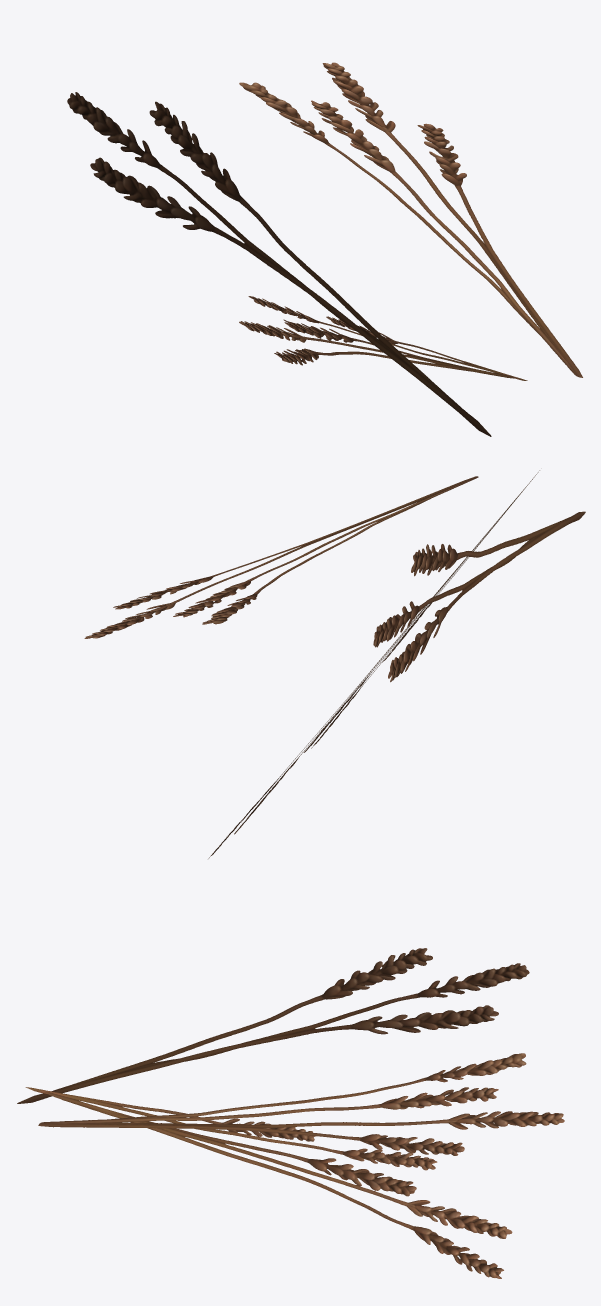
Rendered from Lavender_02_b.fbx.
3 renders of one model, top to bottom at view 1: azimuth 30°, elevation 25°; view 2: azimuth 150°, elevation 25°; view 3: azimuth 270°, elevation 25°, orthographic. The views are drawn at different scales.
Visible parts, largest first — view 1: Lavender_02_b; view 2: Lavender_02_b; view 3: Lavender_02_b.
Part boxes in pixels (x1,y1,x2,y2): Lavender_02_b: (67, 62, 582, 436); Lavender_02_b: (84, 470, 585, 858); Lavender_02_b: (17, 948, 564, 1278).
Size of the model in its own units: 2.38 by 2.41 by 3.9.
